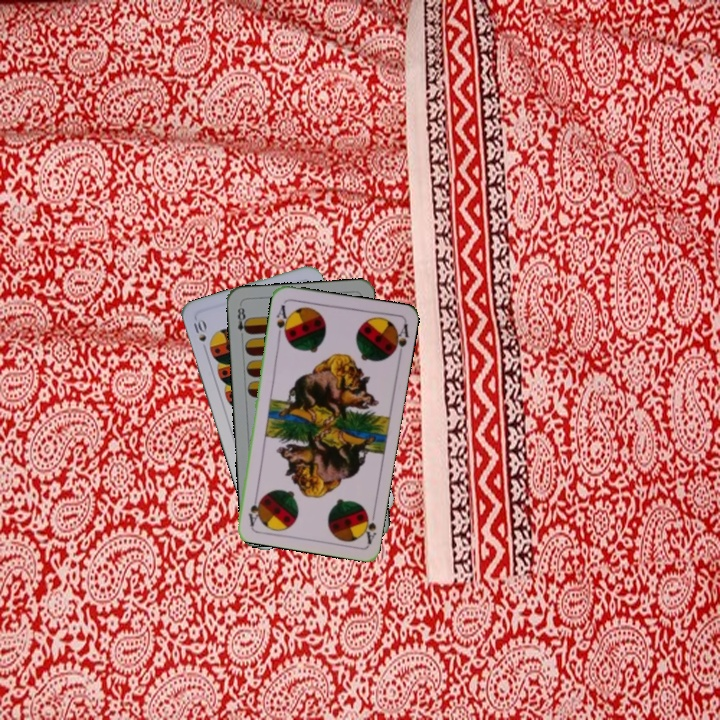E8: (234, 301, 251, 342)
S10: (189, 315, 209, 354)
SA: (357, 505, 379, 546), (272, 301, 292, 340)
